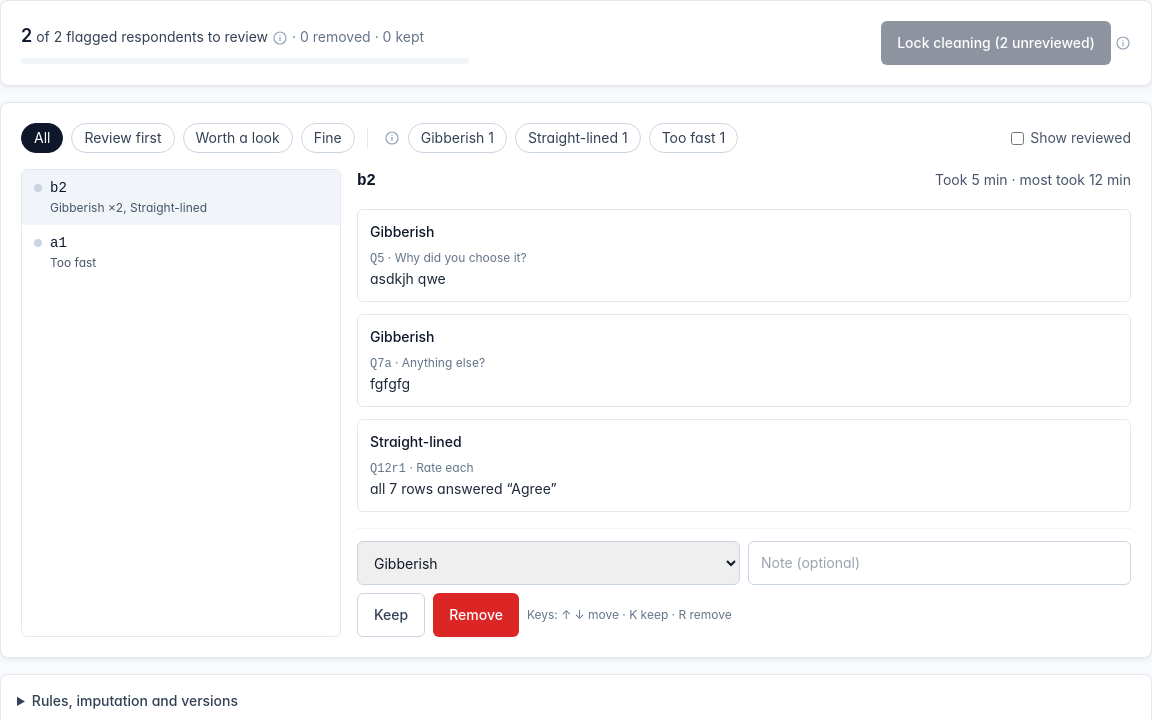
Test case: CleaningPanel › needs a note for "other" and has no bulk keep
The image size is (1152, 720).
Expected: the text "asdkjh qwe" is shown, [370, 270, 446, 287]
Step 1. Select "Other (say why)" in the dropdown named "reason for b2" → (548, 563), box [357, 541, 740, 585]
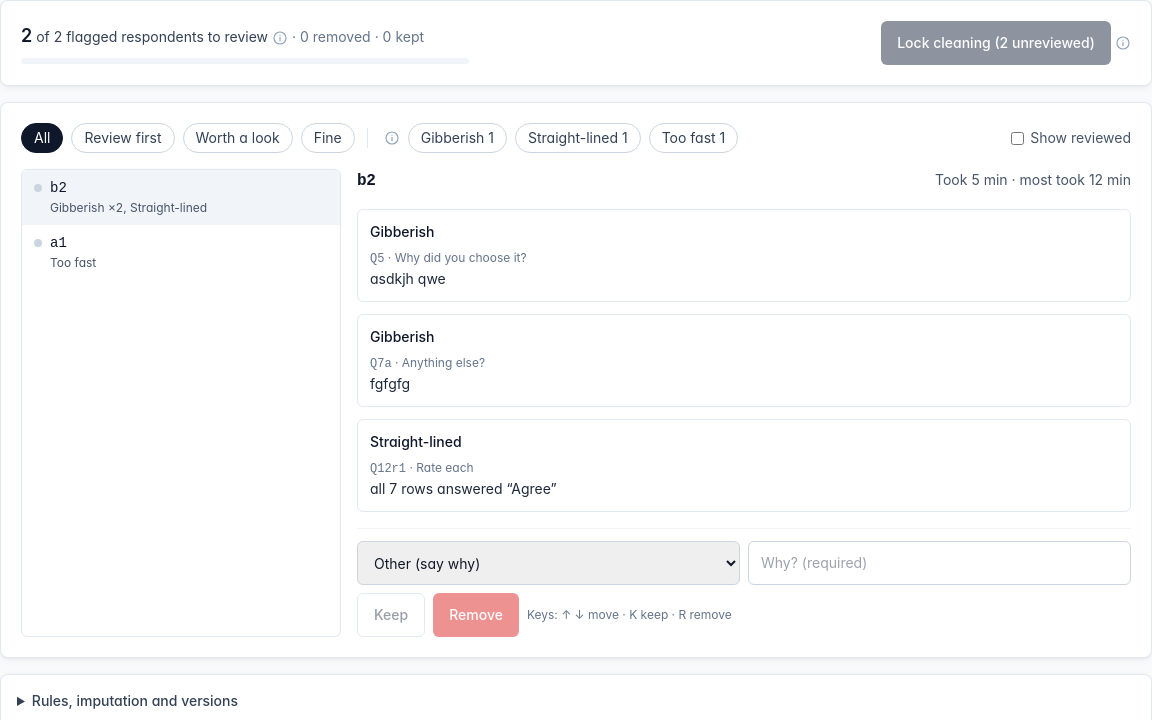
Expected: the number of buttons "Keep" is 1, [357, 593, 425, 637]
Expected: the button "Keep" is disabled, [357, 593, 425, 637]
